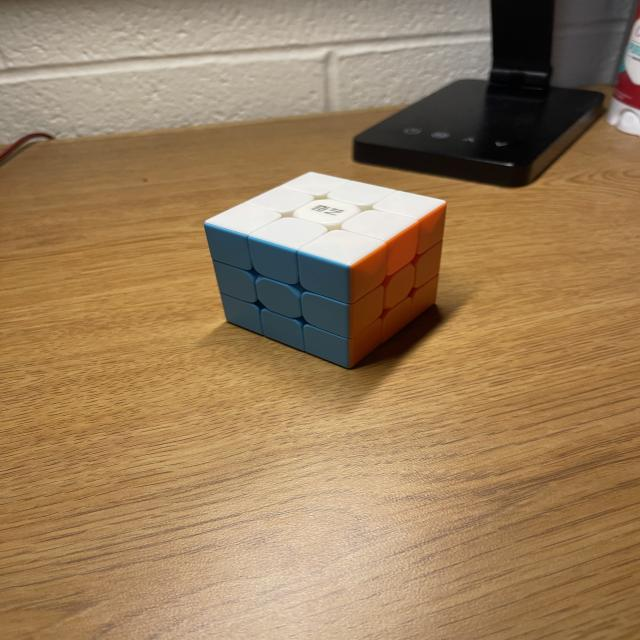Rubiks Cube: (205, 171, 447, 371)
